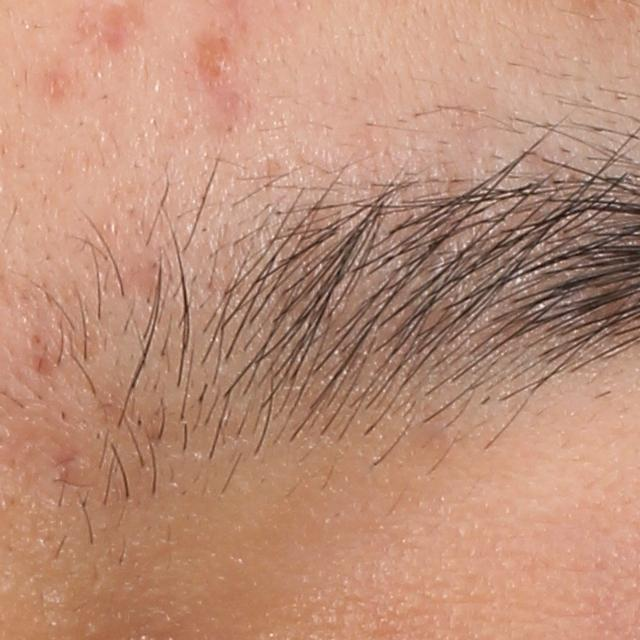papule: (196, 41, 232, 86)
